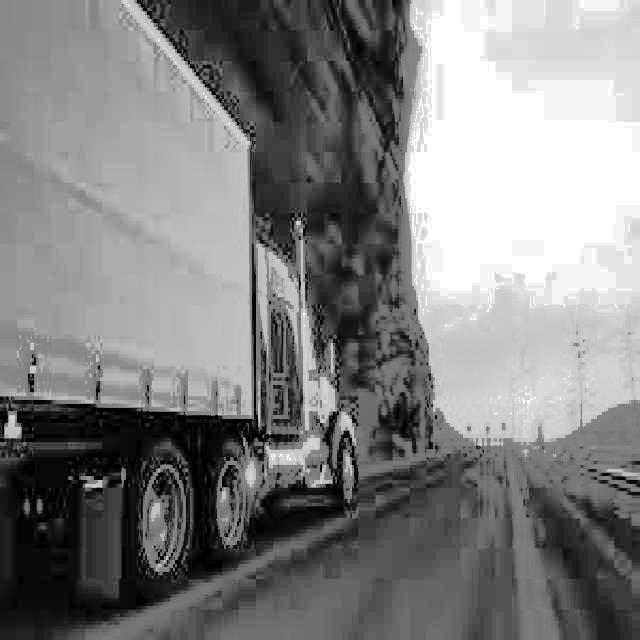Truck: (0, 0, 358, 609)
